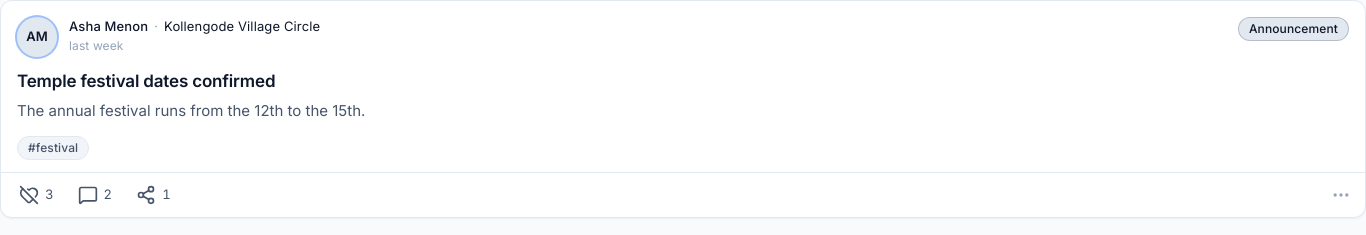
Test: PostCard › offers moderator actions only to moderators
What coordinates should you click on to do the following:
click the button named "more actions"
I would click on:
 (1341, 195)
Its box is [1325,179,1357,211].
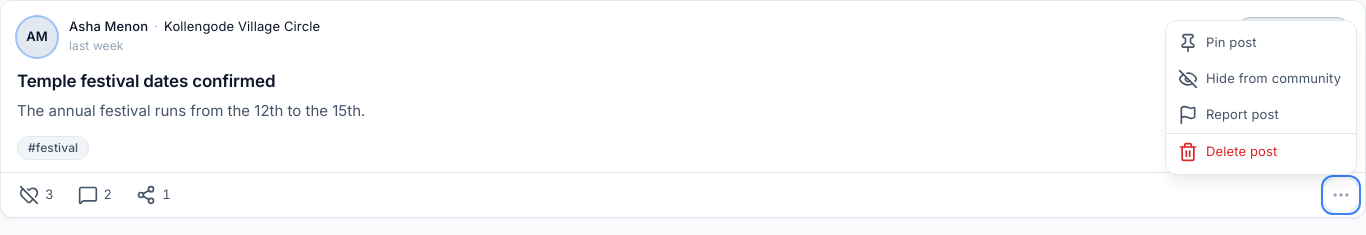
Now the menu item "Pin post" is shown, box [1166,25,1356,61]
Now the menu item "Hide from community" is shown, box [1166,61,1356,97]
